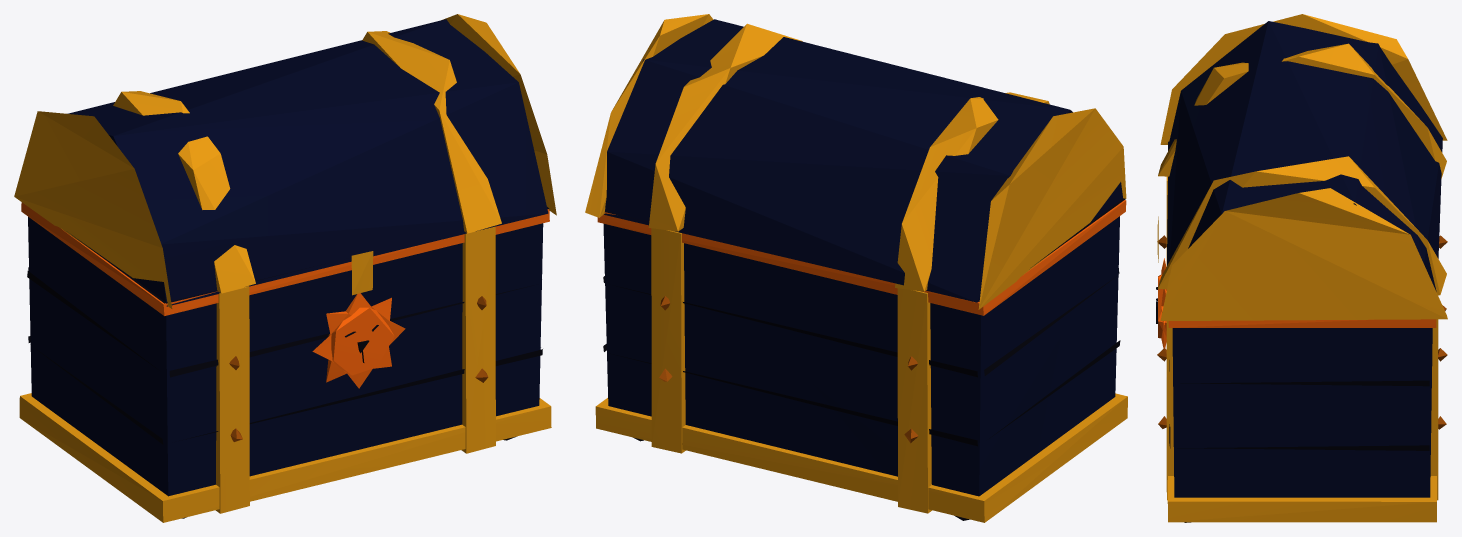
Rendered from tb_chest_grand.three-web-toon.lod25.glb.
3 renders of one model, left to right at view 1: azimuth 30°, elevation 25°; view 2: azimuth 150°, elevation 25°; view 3: azimuth 270°, elevation 25°, orthographic. The views are drawn at different scales.
Parts seen in each view (by area): view 1: chest_body_lod, chest_lid_lod; view 2: chest_body_lod, chest_lid_lod; view 3: chest_lid_lod, chest_body_lod.
Part boxes in pixels (x1=…): chest_body_lod: x1=19, y1=202, x2=551, y2=522; chest_lid_lod: x1=14, y1=14, x2=556, y2=308; chest_body_lod: x1=595, y1=200, x2=1127, y2=522; chest_lid_lod: x1=585, y1=14, x2=1126, y2=309; chest_lid_lod: x1=1157, y1=14, x2=1447, y2=320; chest_body_lod: x1=1156, y1=176, x2=1447, y2=522.
Size of the model in its own units: 2.17 by 1.93 by 1.47.
